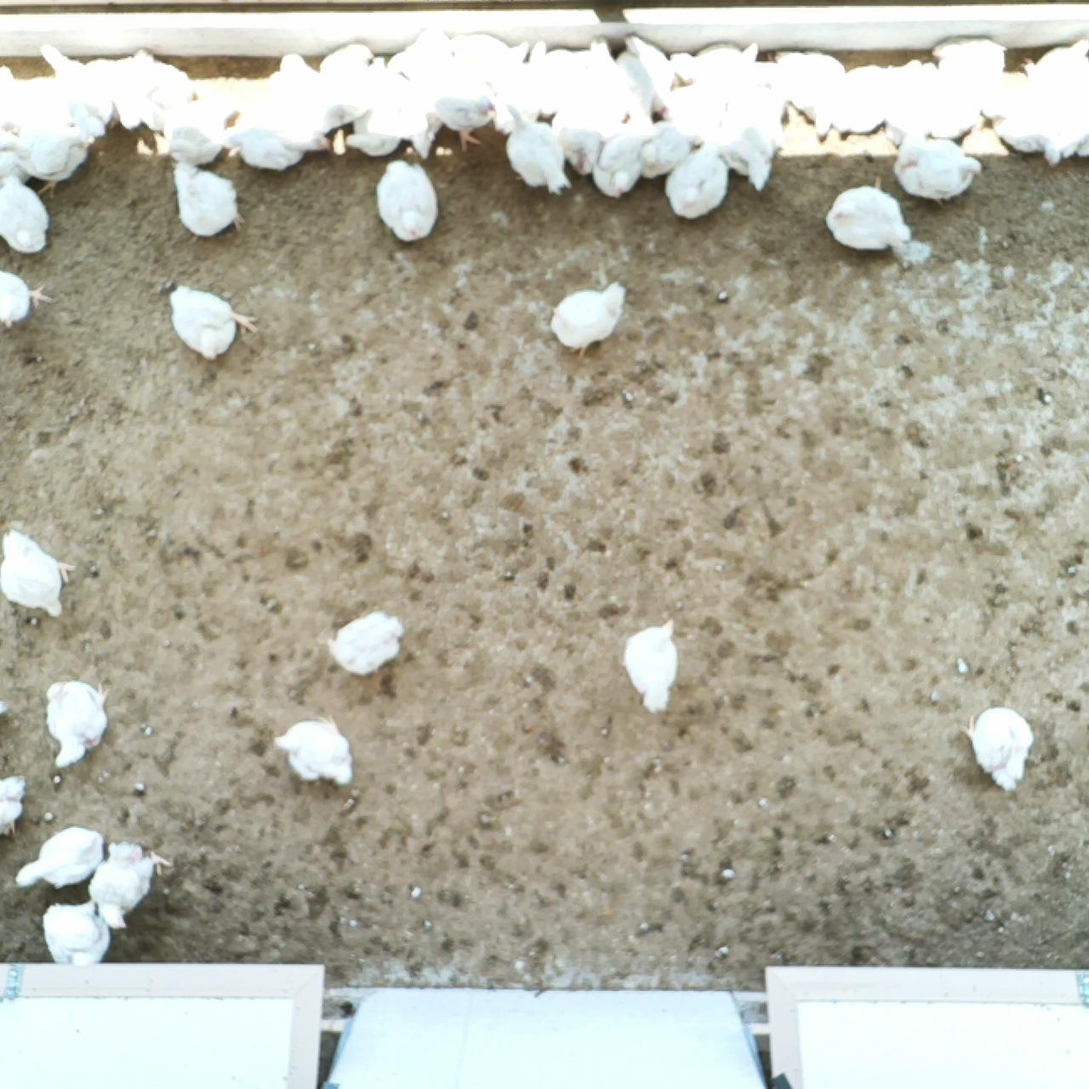chicken: (8, 80, 91, 191), (828, 176, 928, 265), (433, 31, 502, 149), (34, 42, 115, 141), (385, 26, 456, 138), (242, 51, 329, 142), (1031, 34, 1089, 165), (162, 283, 260, 360), (716, 81, 784, 188), (563, 36, 640, 130), (110, 46, 192, 134), (0, 520, 73, 618), (91, 841, 170, 931), (767, 48, 844, 139), (982, 65, 1057, 157), (960, 700, 1032, 793), (931, 32, 1005, 120), (13, 826, 108, 894), (549, 279, 629, 359), (42, 674, 109, 768), (893, 131, 980, 203), (271, 712, 356, 785), (348, 58, 410, 158), (322, 607, 405, 680), (481, 39, 545, 133), (168, 158, 244, 237), (162, 86, 235, 166), (372, 157, 439, 239), (624, 616, 680, 714), (228, 111, 312, 175), (665, 138, 730, 219), (42, 900, 114, 968), (507, 120, 568, 200), (887, 57, 946, 137), (587, 120, 646, 199), (620, 31, 671, 120), (832, 60, 890, 136), (0, 174, 53, 257), (670, 43, 763, 90), (321, 44, 373, 123), (632, 115, 698, 177), (0, 263, 56, 330), (547, 113, 603, 179), (660, 81, 726, 137), (0, 117, 31, 188), (0, 768, 26, 837), (0, 58, 23, 118)
